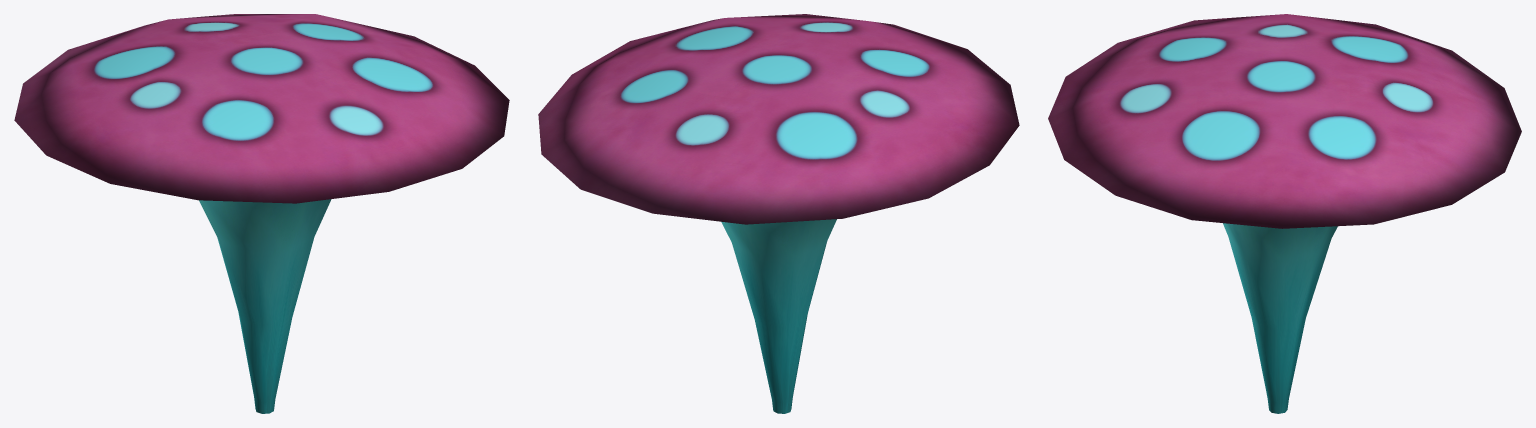
Rendered from Mushroom_Straight2_Pink.fbx.
3 views of the same model, side by side, from view 1: azimuth 30°, elevation 25°; view 2: azimuth 150°, elevation 25°; view 3: azimuth 270°, elevation 25° (orthographic). The views are drawn at different scales.
Visible parts, largest first — view 1: Mesh; view 2: Mesh; view 3: Mesh.
Boxes of the visible parts, left/top/right/bottom form: Mesh: left=14, top=14, right=509, bottom=413; Mesh: left=538, top=14, right=1019, bottom=413; Mesh: left=1048, top=14, right=1521, bottom=413.
Size of the model in its own units: 126 by 98.6 by 125.
